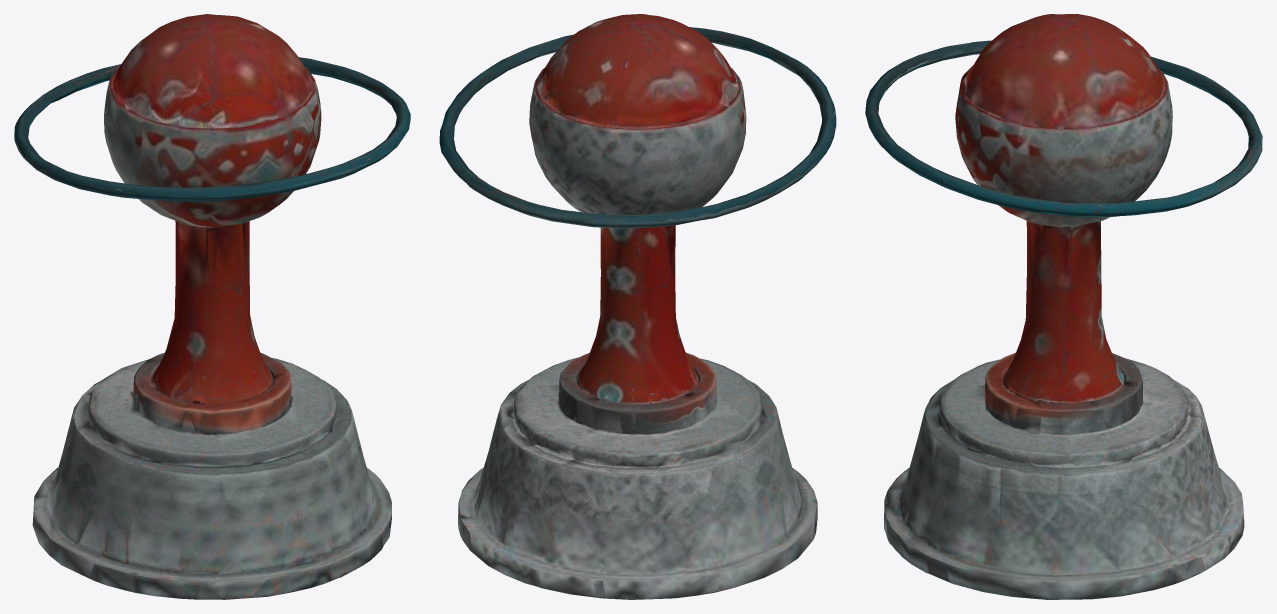
The model's file is poChargeCoil.48974808.glb.
3 views of the same model, side by side, from view 1: azimuth 30°, elevation 25°; view 2: azimuth 150°, elevation 25°; view 3: azimuth 270°, elevation 25° (orthographic).
Size of the model in its own units: 1.37 by 1.9 by 1.37.
Materials: 1 (1 with a texture image).
